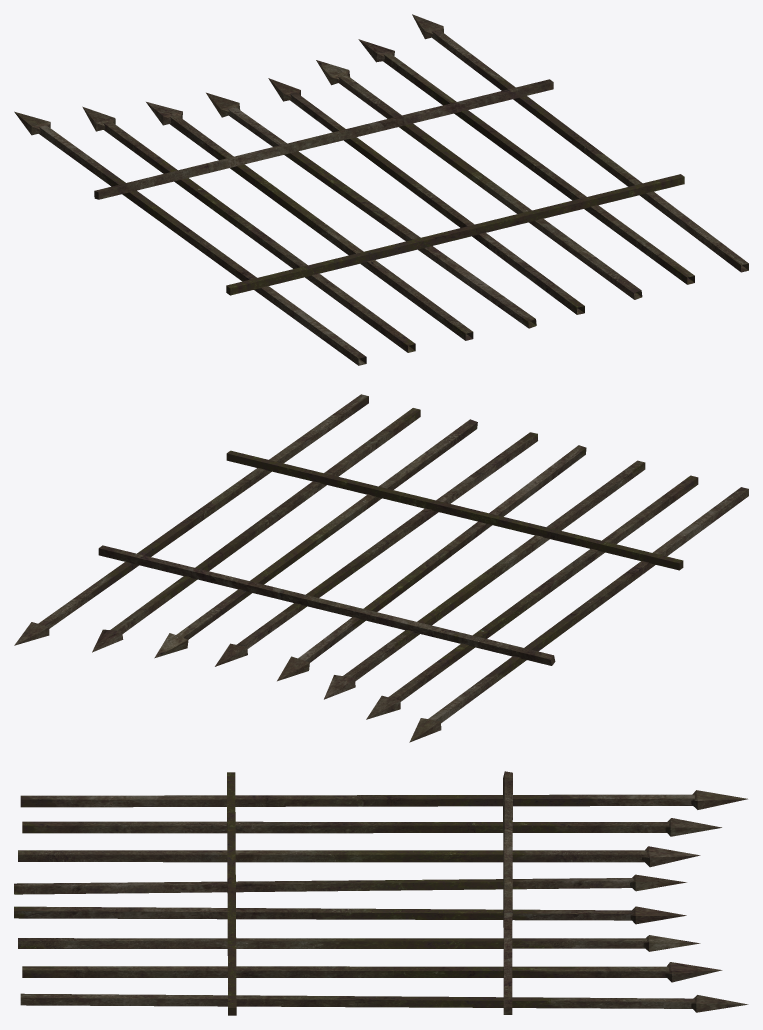
Rendered from TI_Fence_01.fbx.
3 views of the same model, one above another, from view 1: azimuth 30°, elevation 25°; view 2: azimuth 150°, elevation 25°; view 3: azimuth 270°, elevation 25° (orthographic). The views are drawn at different scales.
Visible parts, largest first — view 1: TI_Fence_01; view 2: TI_Fence_01; view 3: TI_Fence_01.
Part boxes in pixels (x1=…): TI_Fence_01: x1=14, y1=14, x2=748, y2=365; TI_Fence_01: x1=14, y1=394, x2=748, y2=742; TI_Fence_01: x1=14, y1=771, x2=748, y2=1015.
Bounding box in the file's own units: 2.68 × 0.0927 × 3.52.
